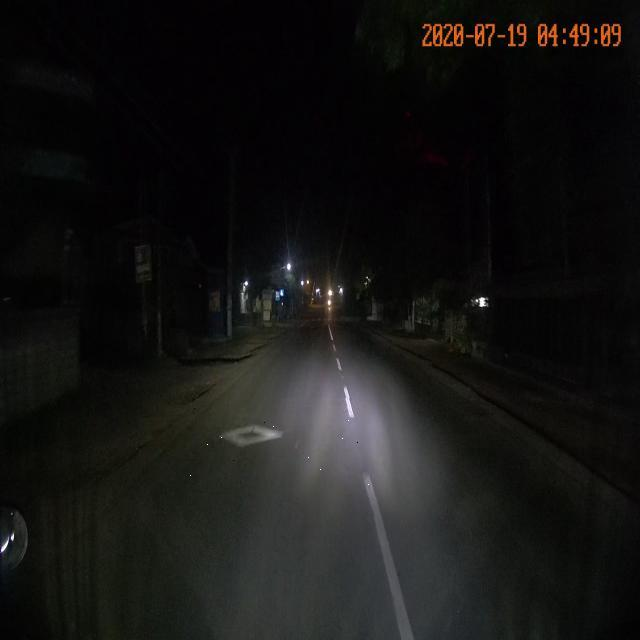diamond: (139, 399, 380, 497)
